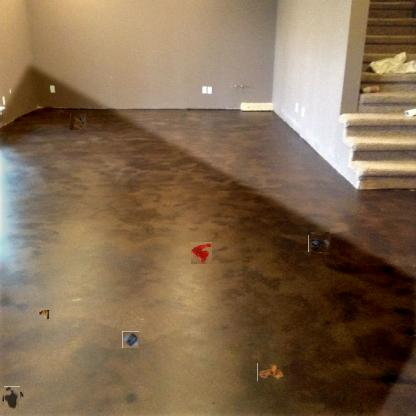dirty: (257, 363, 284, 381), (310, 233, 330, 254), (122, 331, 139, 348), (70, 114, 86, 130), (36, 307, 50, 322)
liquid: (190, 242, 212, 264), (3, 388, 22, 407)
